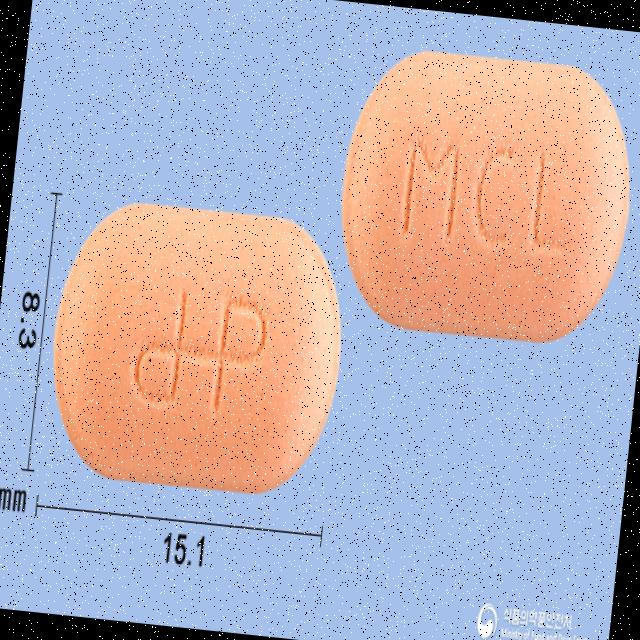Cephamethyl Tab: (38, 190, 358, 510), (325, 39, 640, 360)
